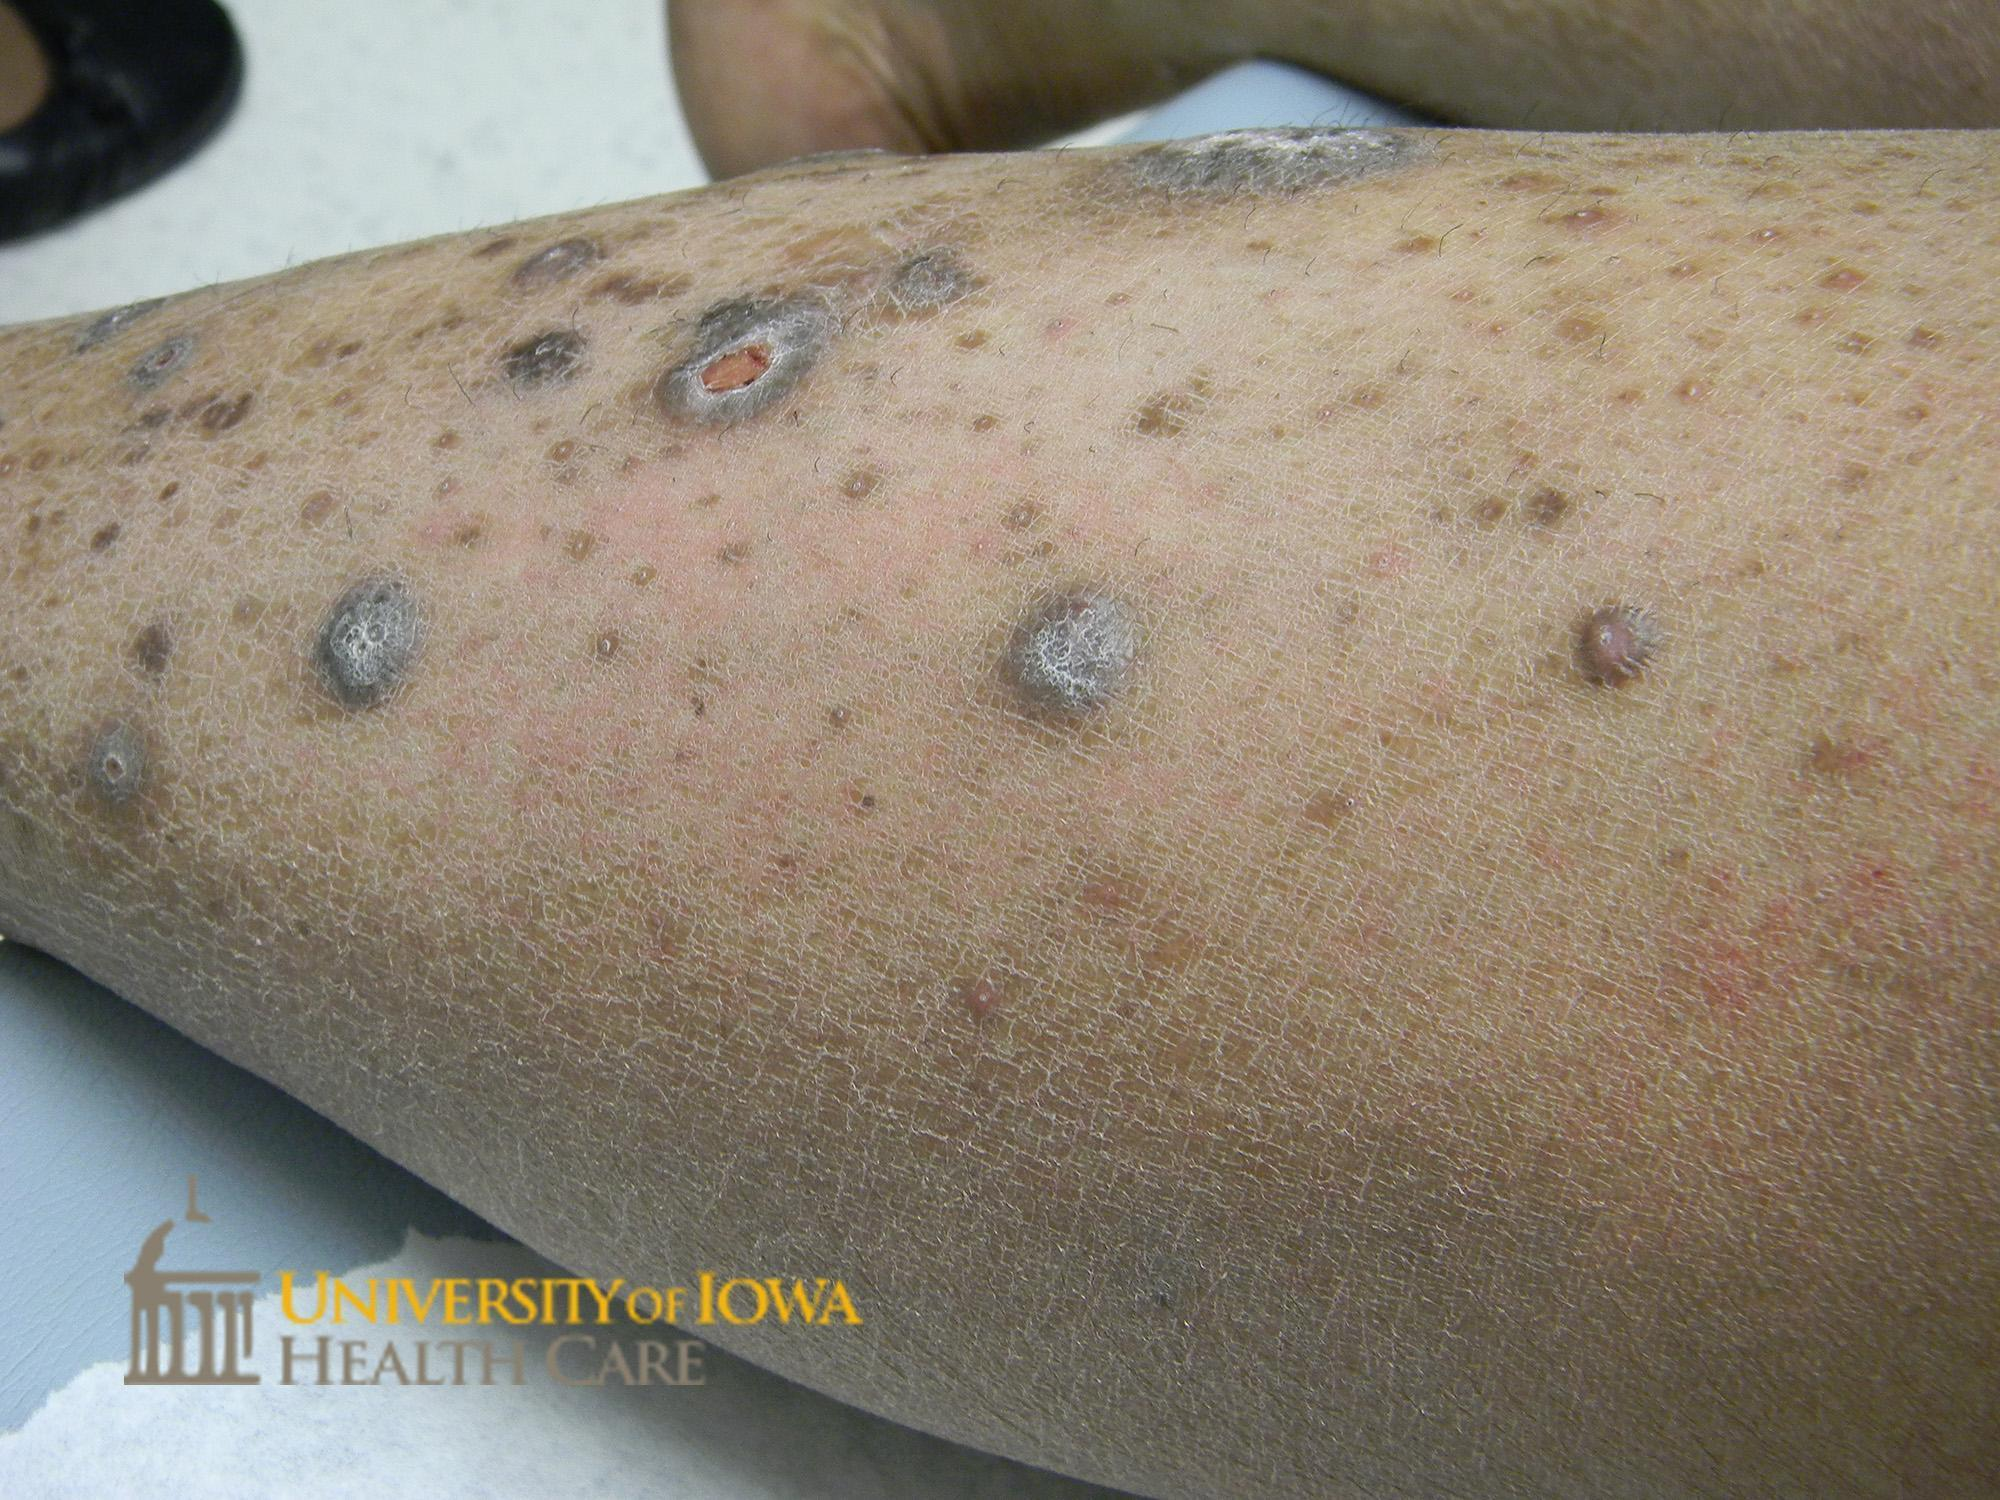hypertrophic lichen planus: (71, 271, 1789, 909)
